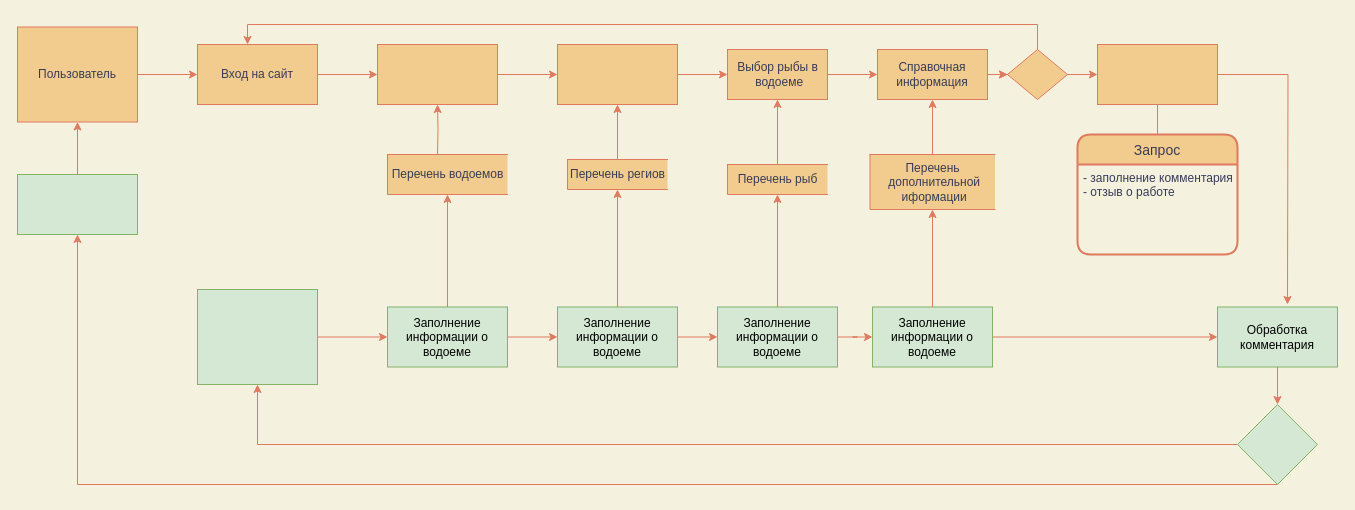
Some shapes in this 1355 by 510 pixel diagram are drawn without their labels. Here are the shapes that lost their labels. From the top down, the centre of each, then its label:
At pixel 437 74: "Поиск подходящего водоема".
At pixel 617 74: "Выбор региона".
At pixel 1157 74: "Формирование комментария".
At pixel 77 204: "Аргументированный отказ".
At pixel 257 336: "Оператор".
